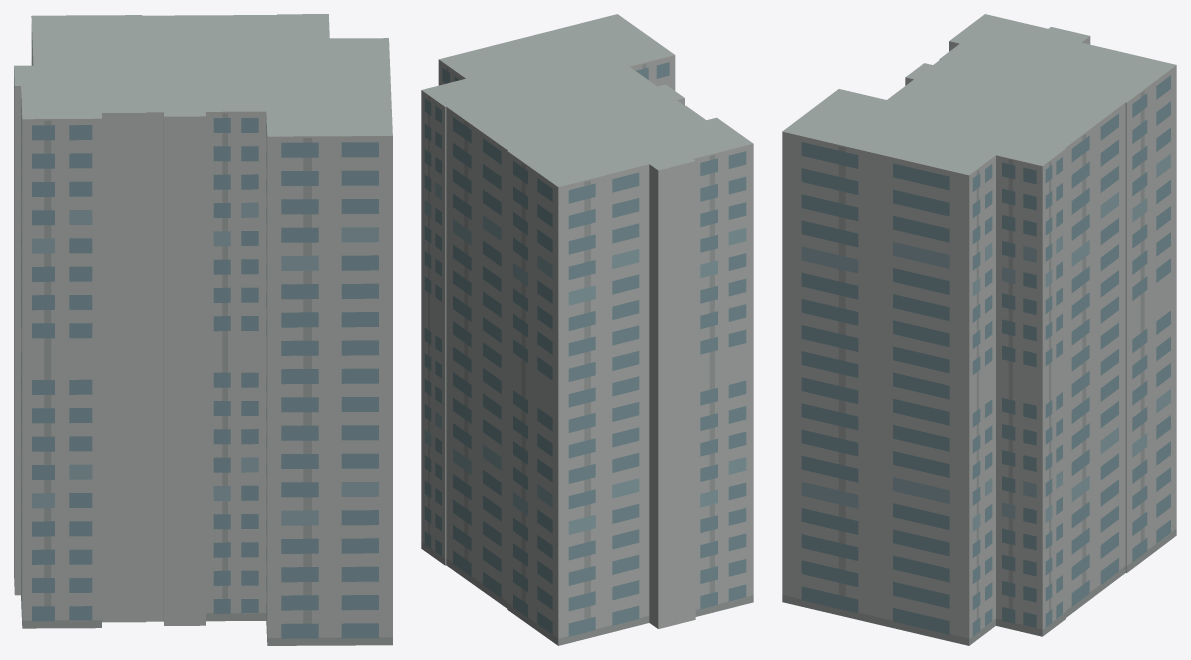
The model's file is survey-upis-32990777.glb.
3 renders of one model, left to right at view 1: azimuth 30°, elevation 25°; view 2: azimuth 150°, elevation 25°; view 3: azimuth 270°, elevation 25°, orthographic. The views are drawn at different scales.
Visible parts, largest first — view 1: survey-upis-32990777.tmp; view 2: survey-upis-32990777.tmp; view 3: survey-upis-32990777.tmp.
Part boxes in pixels (x1,y1,x2,y2): survey-upis-32990777.tmp: [14, 14, 392, 645]; survey-upis-32990777.tmp: [421, 14, 753, 645]; survey-upis-32990777.tmp: [782, 14, 1176, 645].
Bounding box in the file's own units: 57.29 × 77.85 × 59.18.
